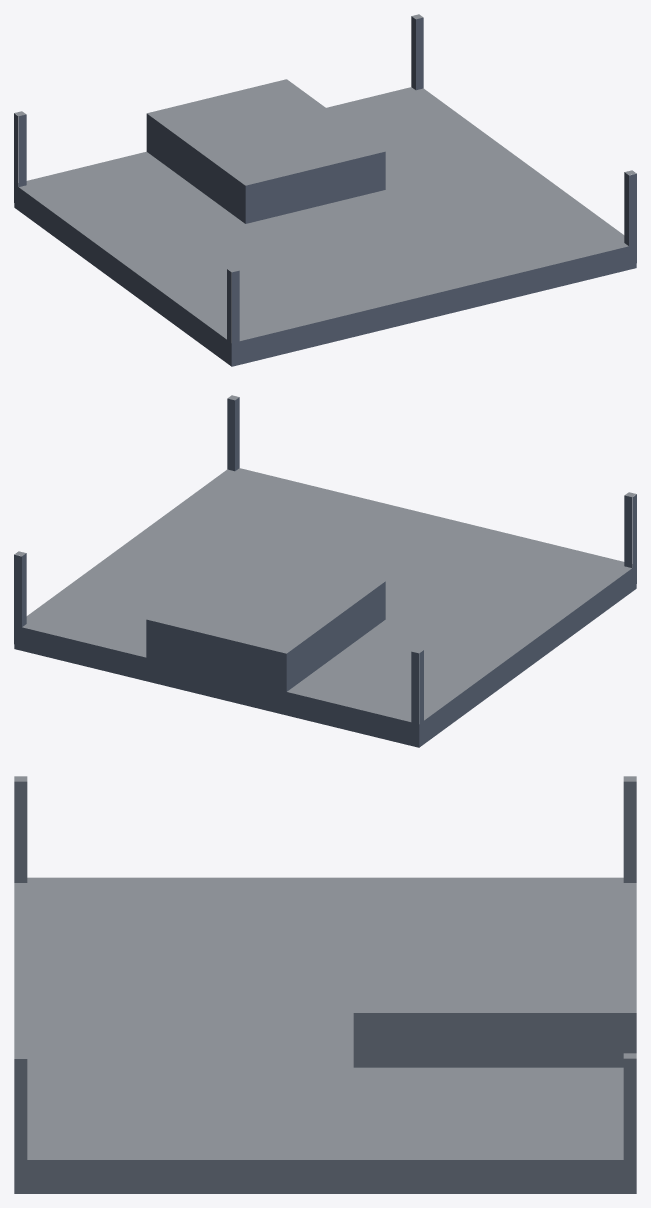
File: office-roof-a.far-facades-v1.lod2.glb
The picture shows the model from 3 angles, top to bottom: view 1: azimuth 30°, elevation 25°; view 2: azimuth 150°, elevation 25°; view 3: azimuth 270°, elevation 25°; orthographic projection. The views are drawn at different scales.
Parts seen in each view (by area): view 1: office-roof-a; view 2: office-roof-a; view 3: office-roof-a.
Boxes of the visible parts, x1,y1,x2,y2 form: office-roof-a: [14, 14, 636, 366]; office-roof-a: [14, 395, 636, 747]; office-roof-a: [14, 776, 636, 1193].
Size of the model in its own units: 26.03 by 5.8 by 24.23.
